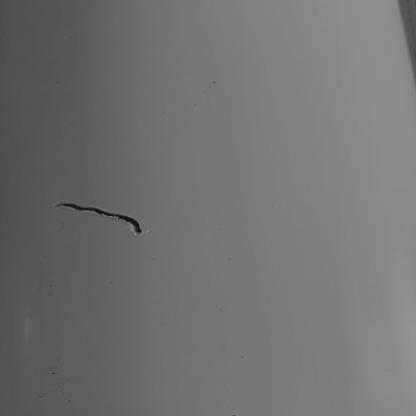fengxi: (54, 200, 143, 236)
